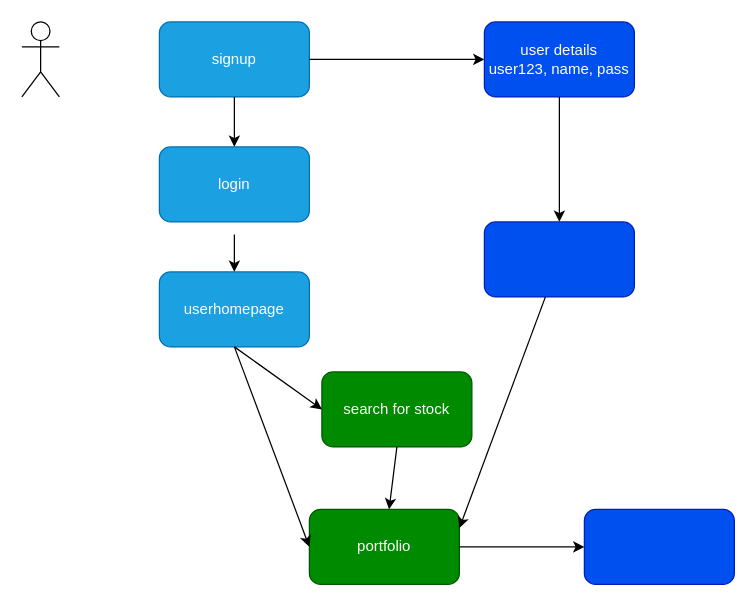
Image size: 756x606. Some labels were removed from this diagram. The shapes that lost their labels are listed below. From the top down, each one's centre as x and y in pixels, then its label:
the point at 40,59: Actor
the point at 558,259: player_table user123, portfolio123, cash_total
the point at 658,546: visual of stocks
